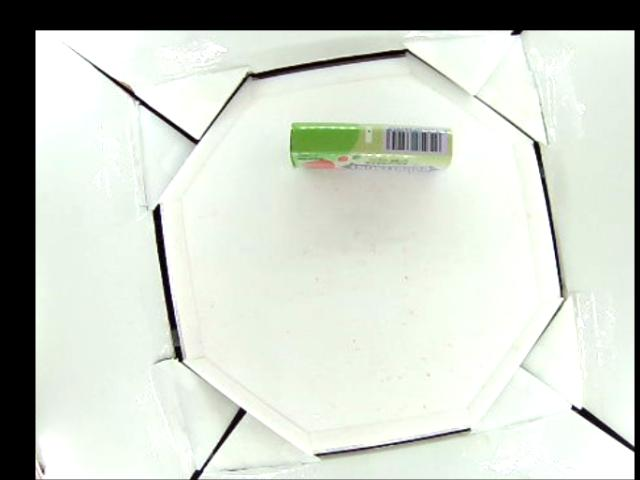Bottle: (286, 120, 452, 172)
